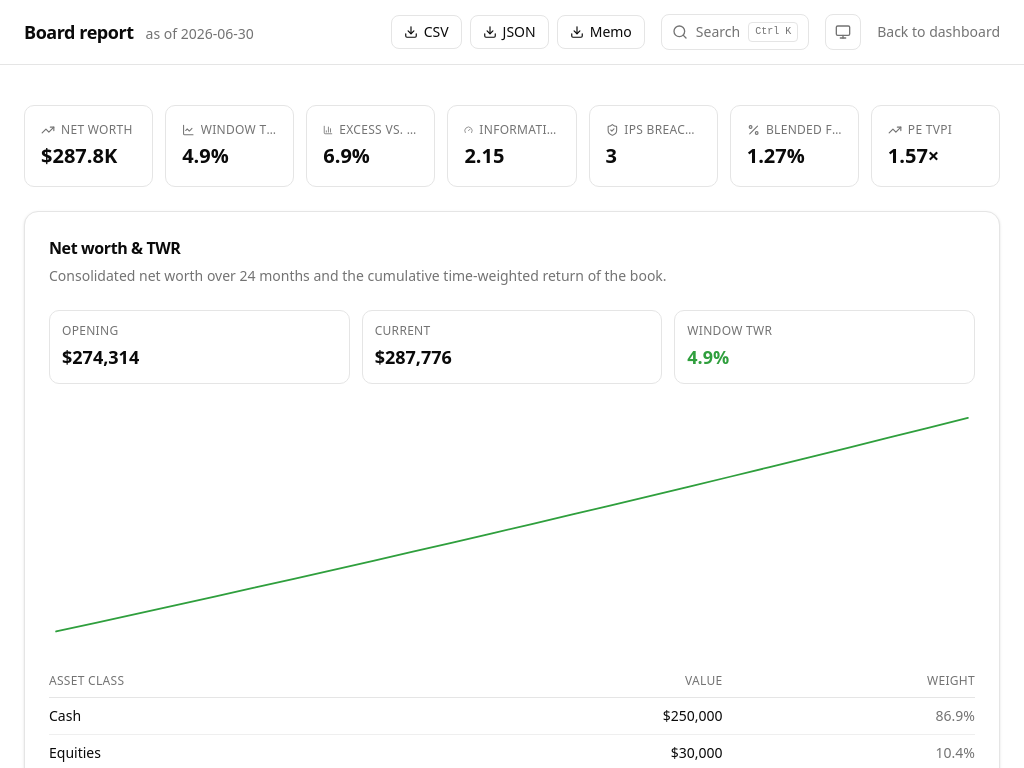
Test case: ReportsPage › toggles the deterministic Markdown export on demand
Click the button with test id "toggle-export" at (601, 32), box [557,15,645,49]
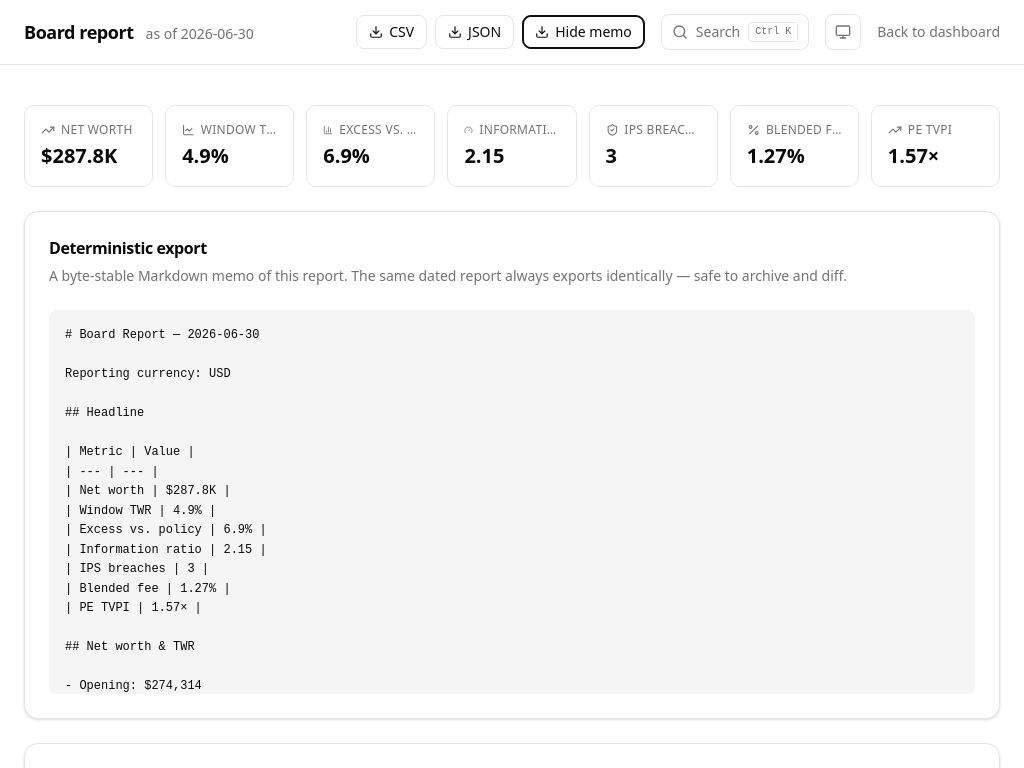
expect the text with test id "export-markdown" is shown: met, box [49,310,975,694]
Note: Toggling again hides it.
Click the button with test id "toggle-export" at (584, 32), box [522,15,645,49]
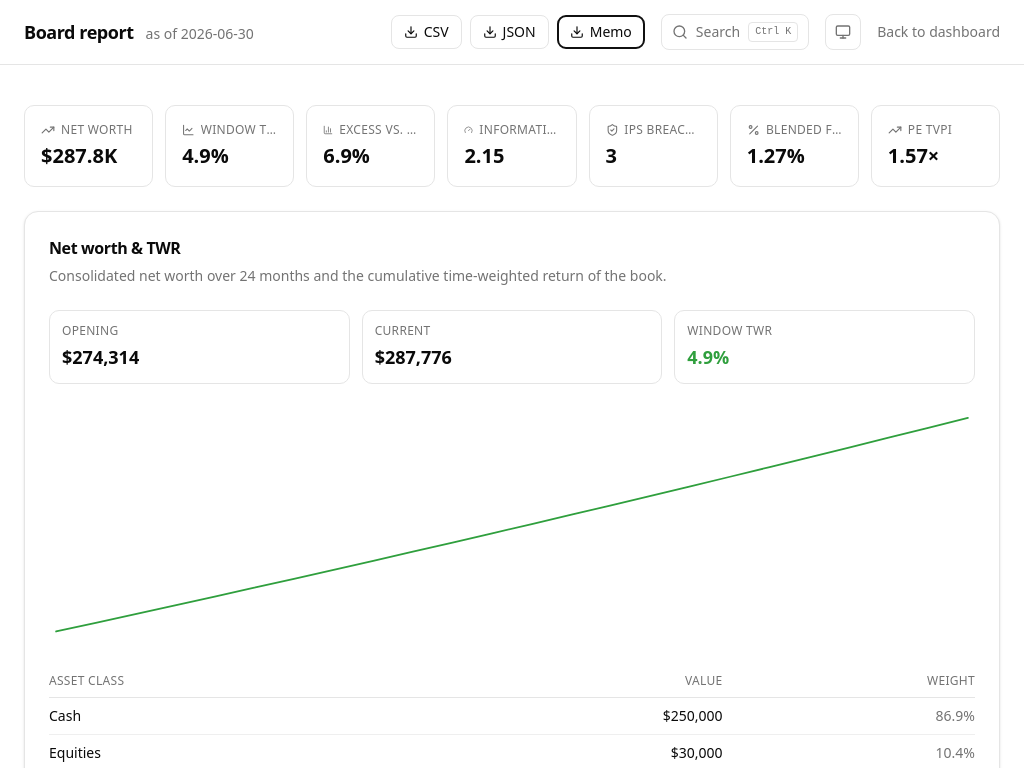
expect the text with test id "export-markdown" is gone: met
